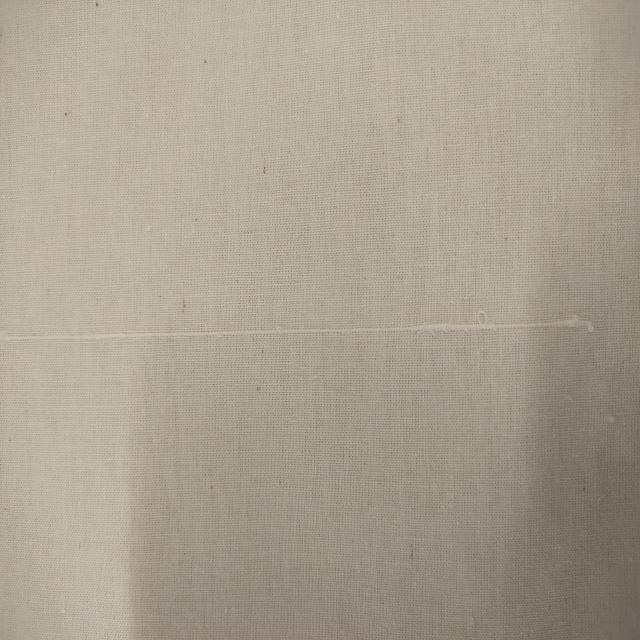Thread_other: (0, 270, 618, 404)
